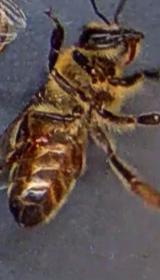varroa_mite: (19, 130, 53, 152)
